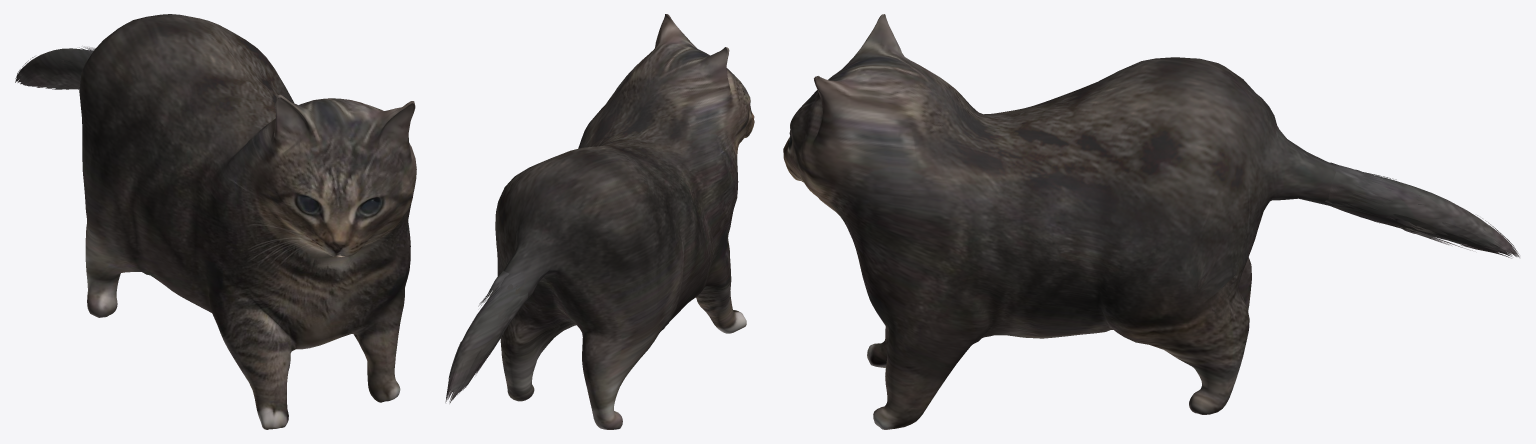
File: cat.glb
3 views of the same model, side by side, from view 1: azimuth 30°, elevation 25°; view 2: azimuth 150°, elevation 25°; view 3: azimuth 270°, elevation 25° (orthographic). The views are drawn at different scales.
Visible parts, largest first — view 1: Muchkin1.002; view 2: Muchkin1.002; view 3: Muchkin1.002.
Boxes of the visible parts, bbox=[...] form: Muchkin1.002: bbox=[15, 14, 416, 429]; Muchkin1.002: bbox=[445, 14, 754, 429]; Muchkin1.002: bbox=[783, 14, 1519, 429].
Size of the model in its own units: 0.2392 by 0.3866 by 0.7242.
Materials: 1 (1 with a texture image).
